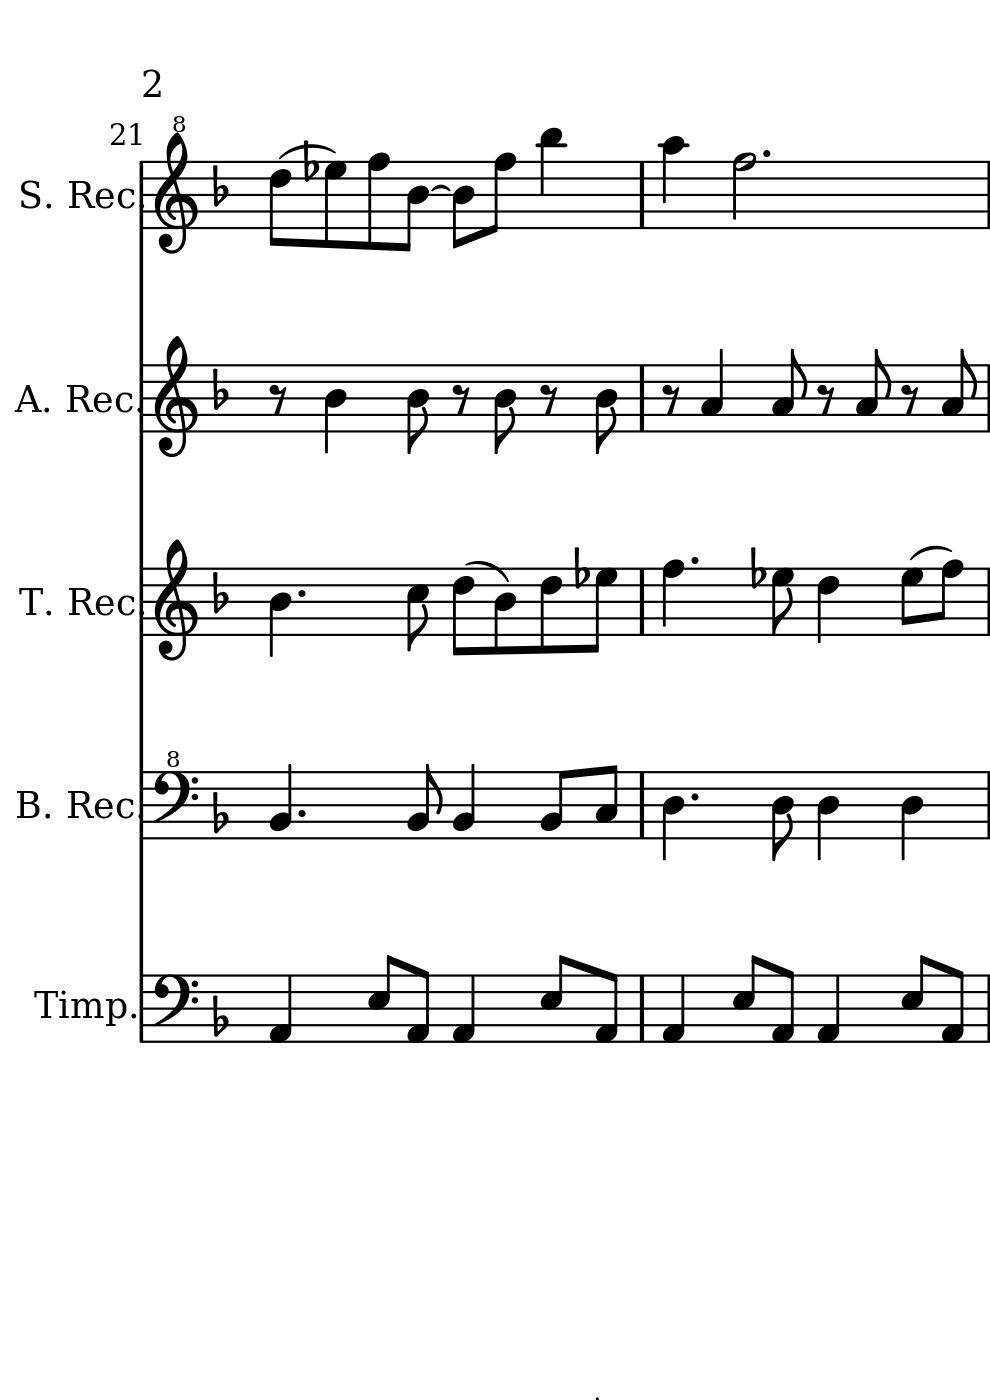1: (127, 120, 144, 150)
2: (138, 67, 162, 100), (107, 120, 127, 148)
2_8: (731, 151, 755, 231)
4_1: (264, 972, 295, 1043), (659, 974, 687, 1043), (451, 973, 477, 1047), (817, 973, 841, 1045)
4_12: (660, 135, 689, 231)
4_13: (537, 127, 564, 231)
4_2: (268, 762, 292, 841), (452, 763, 477, 842)
4_3: (701, 347, 726, 434)
4_4: (268, 566, 294, 658), (899, 769, 924, 863), (660, 770, 684, 862), (324, 364, 347, 454), (816, 770, 838, 861)
4_6: (815, 564, 841, 644)
4_8: (661, 558, 682, 637)
8_1: (592, 970, 620, 1044), (940, 969, 966, 1045), (405, 968, 430, 1045), (770, 968, 794, 1047)
8_2: (406, 763, 442, 841), (539, 767, 571, 841)
8_3: (939, 348, 979, 434), (769, 348, 808, 434), (854, 347, 891, 434), (595, 764, 618, 842)
8_4: (397, 161, 431, 254), (492, 564, 519, 654), (595, 363, 619, 457), (768, 770, 793, 864), (494, 363, 517, 457), (405, 363, 430, 452), (451, 160, 475, 251)
8_5: (537, 954, 571, 1044), (730, 954, 763, 1044), (366, 953, 397, 1047), (899, 953, 930, 1045), (406, 566, 430, 651)
8_6: (536, 566, 562, 657), (451, 566, 475, 657), (268, 161, 291, 250)
8_7: (586, 566, 614, 654), (322, 161, 349, 250), (899, 566, 924, 637), (770, 566, 794, 637)
8_8: (487, 150, 517, 236), (366, 152, 392, 251), (935, 559, 964, 637)
Fclef: (151, 970, 200, 1044)
Flat: (210, 163, 230, 210), (300, 139, 319, 187), (570, 546, 591, 589), (748, 547, 767, 590), (211, 368, 229, 413), (211, 572, 230, 614), (211, 995, 230, 1037), (212, 791, 228, 834)
Gclef: (153, 335, 200, 463), (154, 538, 199, 664)
High_Fclef: (150, 747, 198, 841)
High_Gclef: (151, 112, 198, 253)
Rec: (66, 585, 139, 618), (65, 789, 137, 821), (67, 180, 137, 211), (65, 382, 134, 413)
Rests8: (268, 382, 292, 416), (660, 383, 682, 417), (901, 383, 921, 417), (450, 383, 470, 416), (539, 383, 557, 417), (817, 383, 836, 417)
Single_barline: (134, 160, 153, 229), (134, 976, 153, 1044), (633, 160, 652, 228), (135, 771, 154, 839), (633, 772, 652, 838), (135, 364, 153, 433), (633, 975, 651, 1042), (136, 567, 153, 636), (634, 365, 651, 432), (636, 567, 652, 635), (976, 162, 990, 228), (977, 364, 990, 432), (978, 975, 990, 1042), (978, 771, 990, 839), (978, 569, 990, 635)
Slur: (279, 138, 337, 160), (463, 560, 509, 584), (907, 545, 952, 562), (430, 185, 453, 194)
Timp: (30, 987, 127, 1032)
dot: (295, 807, 307, 821), (759, 147, 772, 160), (688, 555, 701, 568), (688, 791, 700, 803), (295, 589, 307, 600)
